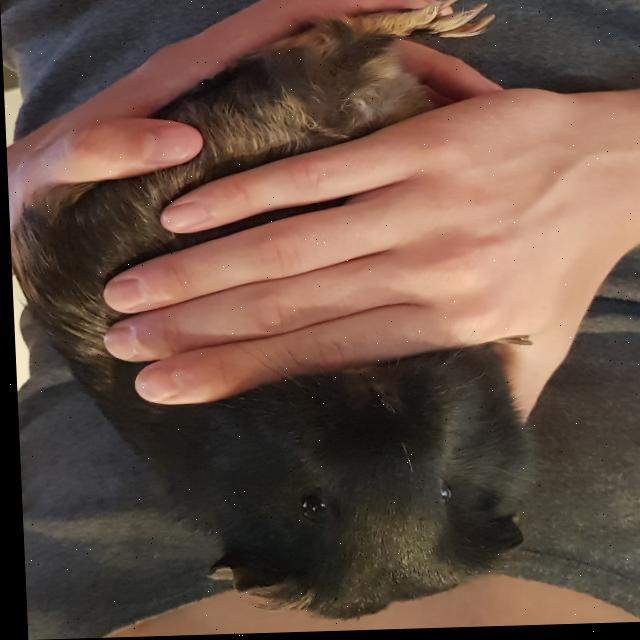guinea pig: (1, 0, 538, 632)
